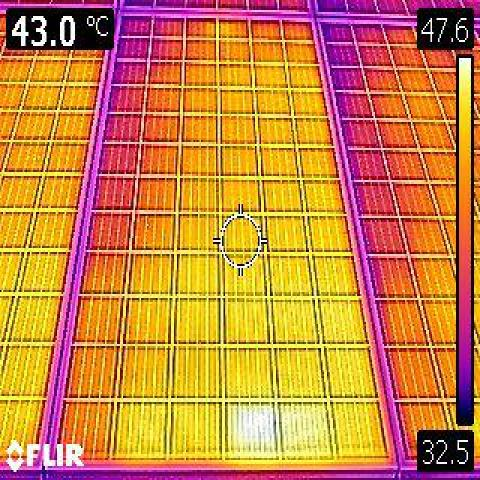fault: (227, 398, 280, 445)
